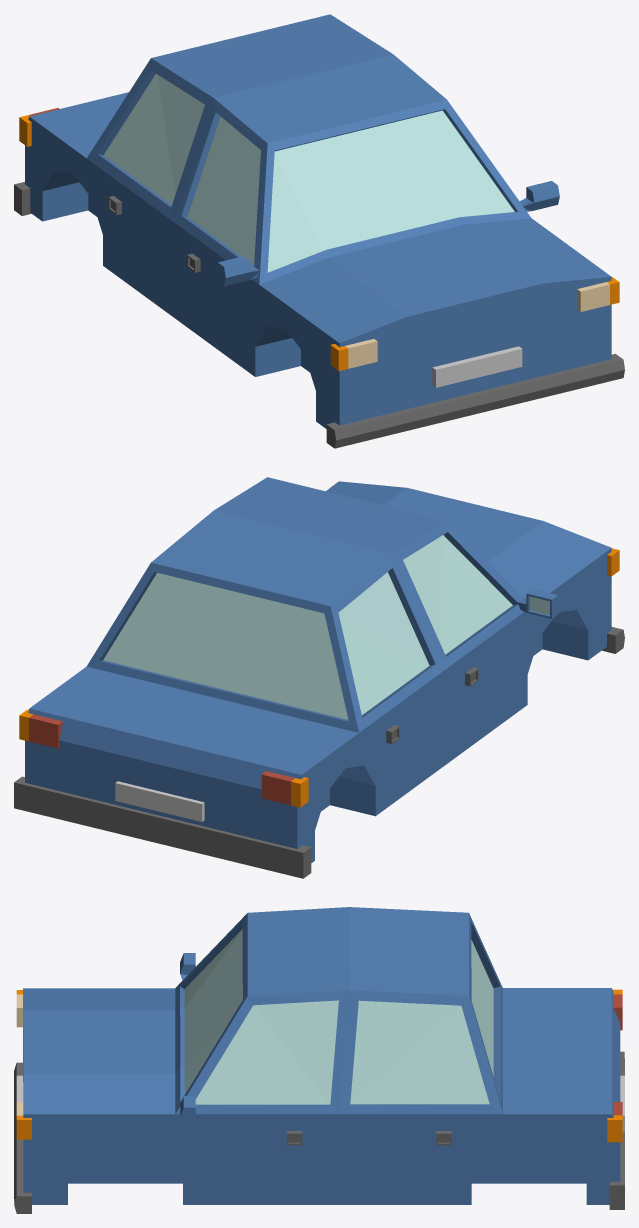
The model's file is Car_01.fbx.
The picture shows the model from 3 angles, top to bottom: view 1: azimuth 30°, elevation 25°; view 2: azimuth 150°, elevation 25°; view 3: azimuth 270°, elevation 25°; orthographic projection. The views are drawn at different scales.
Parts seen in each view (by area): view 1: Car_01; view 2: Car_01; view 3: Car_01.
Part boxes in pixels (x1,y1,x2,y2): Car_01: (14, 14, 624, 448); Car_01: (14, 477, 624, 878); Car_01: (14, 907, 624, 1213).
Size of the model in its own units: 197 by 117 by 328.
